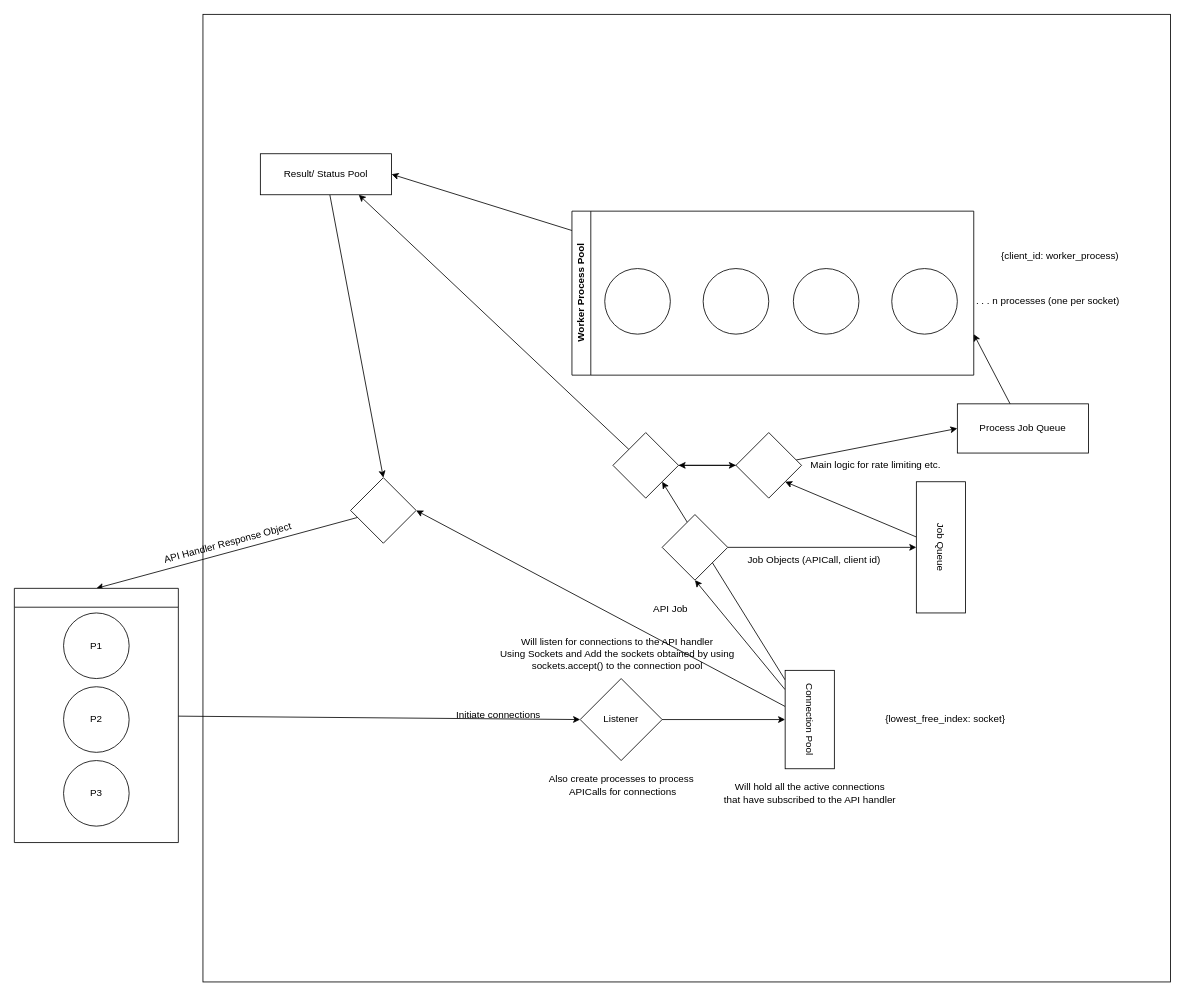
Image size: 1185x996. Some labels were removed from this diagram. The shapes that lost their labels are listed below. From the top down, each one's box as (x1, y1, x2, y2) in pixels, then its label:
(612, 432, 679, 498): Status
(735, 432, 802, 498): Dispatcher
(350, 477, 416, 543): Broadcaster
(661, 514, 728, 580): Pooler
(14, 588, 178, 843): Subscriber pool
